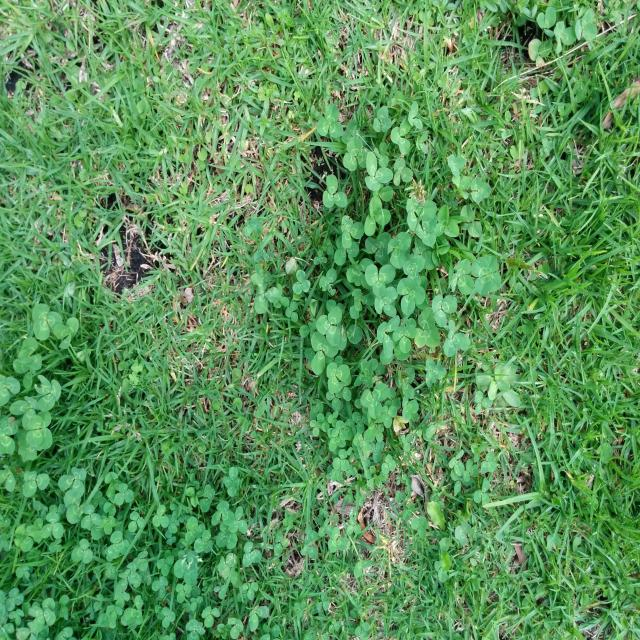Four Leaf Clover: (471, 254, 501, 295)
